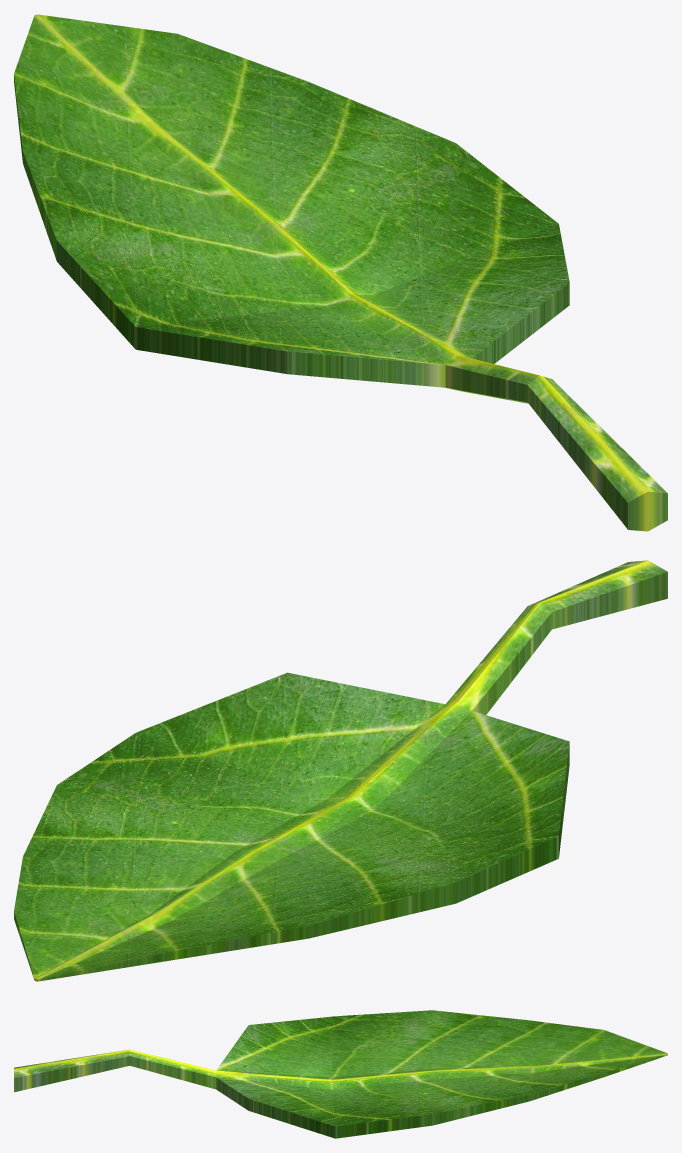
Rendered from LeafNew1.fbx.
3 views of the same model, one above another, from view 1: azimuth 30°, elevation 25°; view 2: azimuth 150°, elevation 25°; view 3: azimuth 270°, elevation 25° (orthographic). The views are drawn at different scales.
Visible parts, largest first — view 1: Box001; view 2: Box001; view 3: Box001.
Part boxes in pixels (x1,y1,x2,y2): Box001: (14, 14, 667, 531); Box001: (14, 560, 667, 981); Box001: (14, 1010, 667, 1138).
Size of the model in its own units: 29.63 by 6.2 by 74.2.
Materials: 1 (1 with a texture image).
